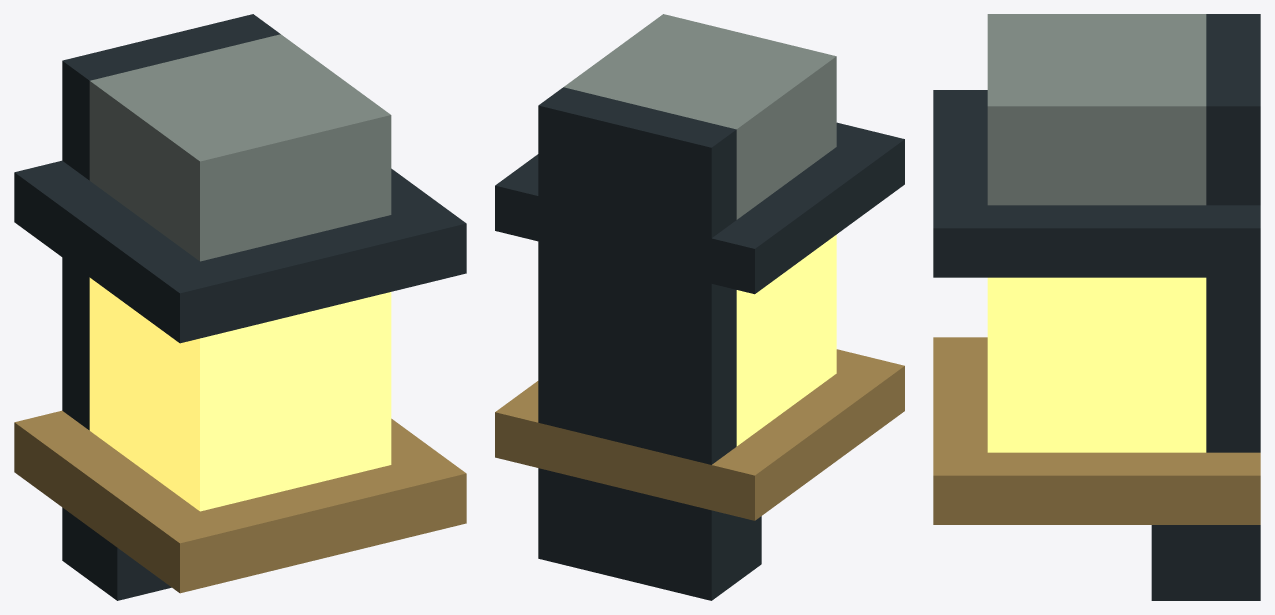
File: IT_LIGHT_01.glb
3 renders of one model, left to right at view 1: azimuth 30°, elevation 25°; view 2: azimuth 150°, elevation 25°; view 3: azimuth 270°, elevation 25°, orthographic. The views are drawn at different scales.
Visible parts, largest first — view 1: IT_LIGHT_01.body; view 2: IT_LIGHT_01.body; view 3: IT_LIGHT_01.body.
Part boxes in pixels (left/top/right/bottom): IT_LIGHT_01.body: left=14, top=14, right=466, bottom=600; IT_LIGHT_01.body: left=495, top=14, right=904, bottom=600; IT_LIGHT_01.body: left=933, top=14, right=1260, bottom=600.
Bounding box in the file's own units: 0.75 × 1.25 × 0.75.
